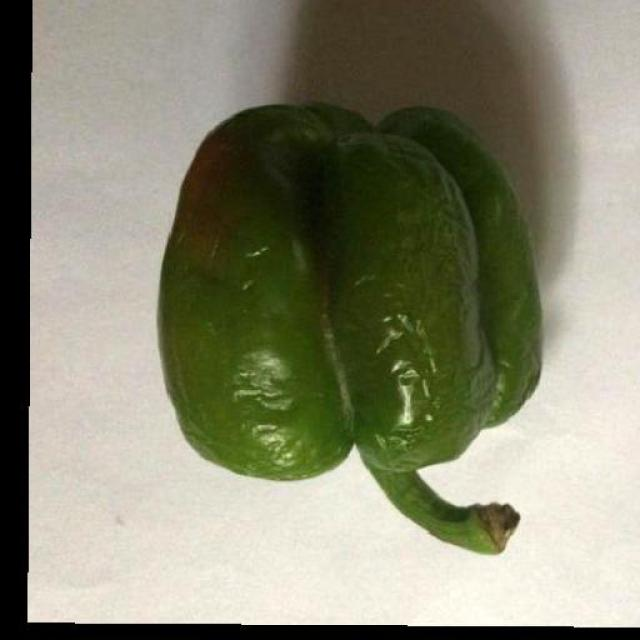Stale_Capsicum: (161, 102, 565, 563)
